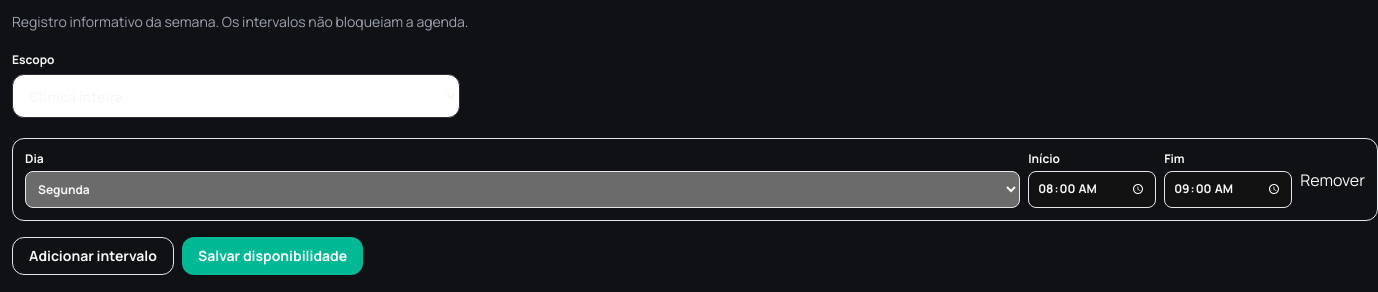
Test: AvailabilitySettingsPanel › não exibe nem salva dados antigos enquanto troca de profissional e falha
expect the time field showing "08:00" is shown: met, box [1028,171,1156,208]
Select "Ana" in the dropdown named "Escopo da disponibilidade": (236, 96) [12,74,460,118]
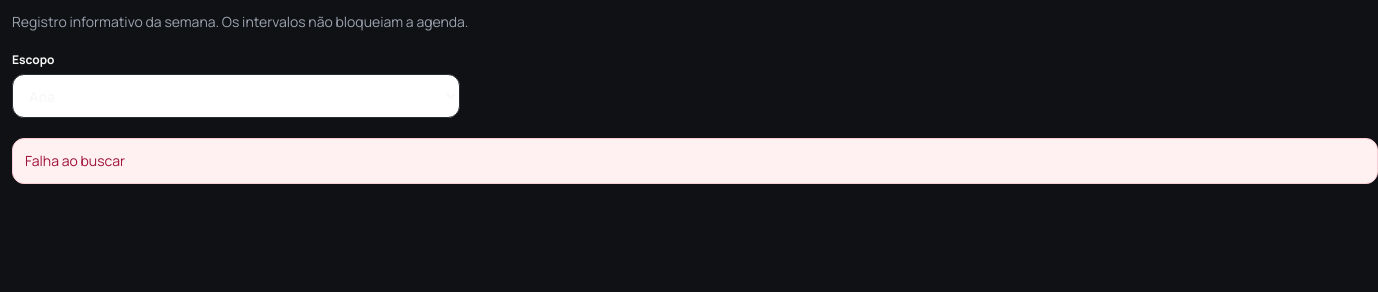
expect the field showing "08:00" is not shown: met
expect the message reads "Falha ao buscar": met, box [25,151,125,170]
expect the button "Salvar disponibilidade" is gone: met
